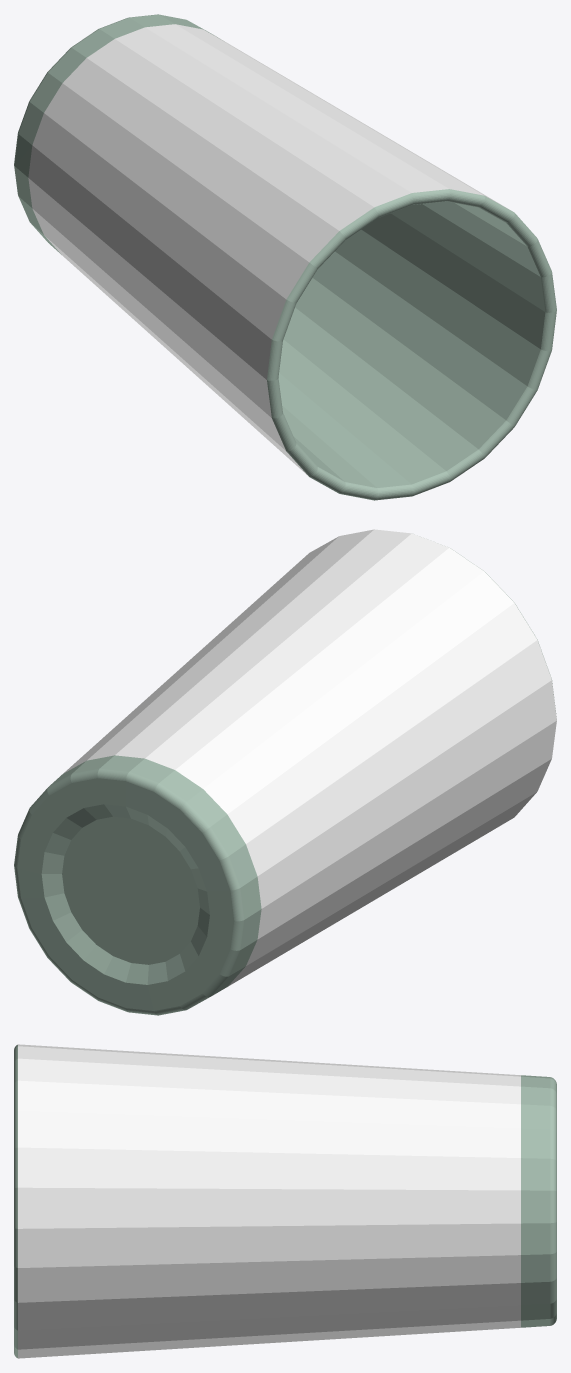
3 renders of one model, top to bottom at view 1: azimuth 30°, elevation 25°; view 2: azimuth 150°, elevation 25°; view 3: azimuth 270°, elevation 25°, orthographic. The views are drawn at different scales.
Parts seen in each view (by area): view 1: glass; view 2: glass; view 3: glass.
Part boxes in pixels (box(x1,y1,x2,y2)): glass: box(14, 14, 556, 500); glass: box(14, 529, 556, 1015); glass: box(14, 1044, 556, 1358).
Bounding box in the file's own units: 2.99 × 2.99 × 5.15.
